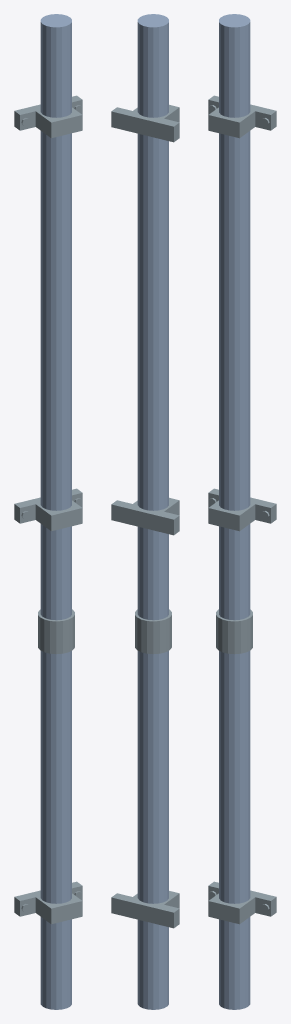
File: conduit_straight.obj
3 renders of one model, left to right at view 1: azimuth 30°, elevation 25°; view 2: azimuth 150°, elevation 25°; view 3: azimuth 330°, elevation 25°, orthographic.
Size of the model in its own units: 0.1 by 1.5 by 0.059.
